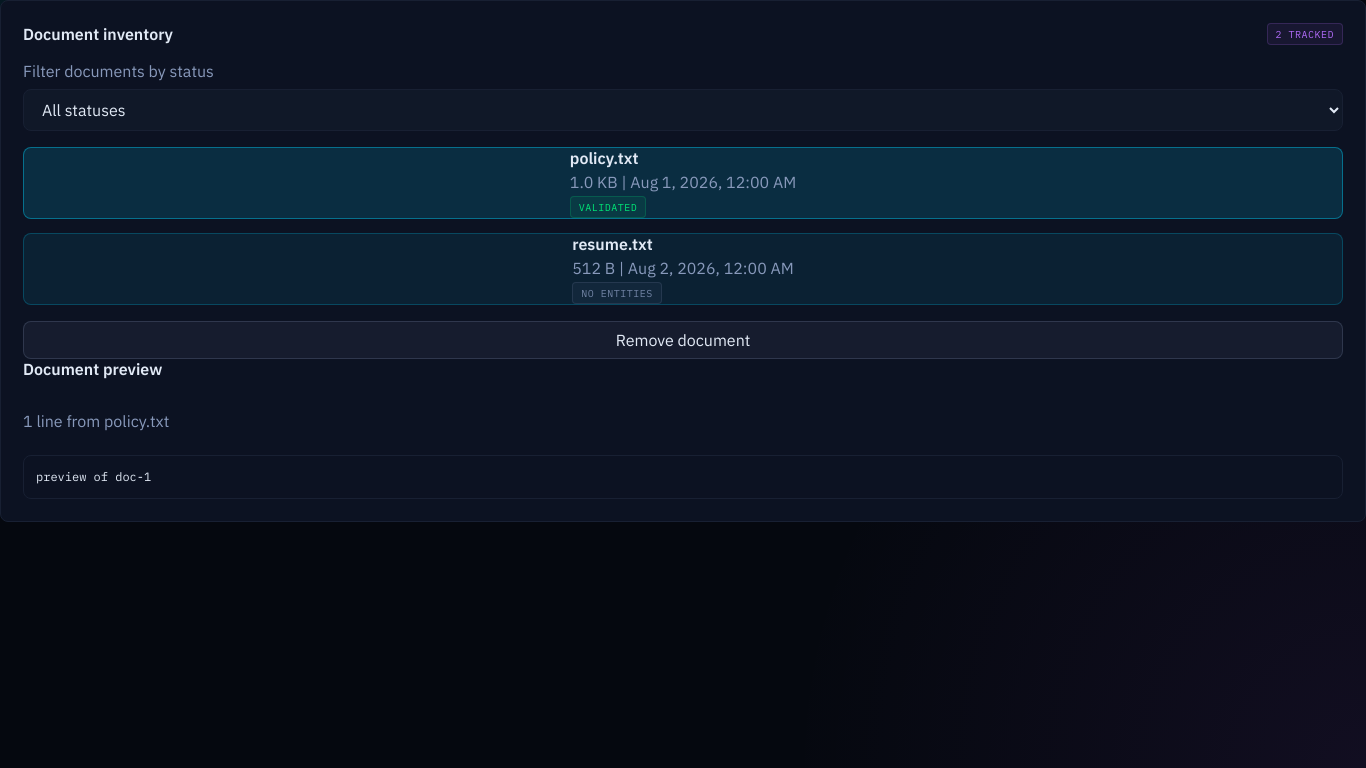
it: DataSection › confirms before removing a document
This screenshot has width=1366, height=768.
Expected: the text "policy.txt" is shown, 570,148 -> 638,168
Click the button "Remove document". click: {"x": 683, "y": 340}
box: 23,321 -> 1343,359
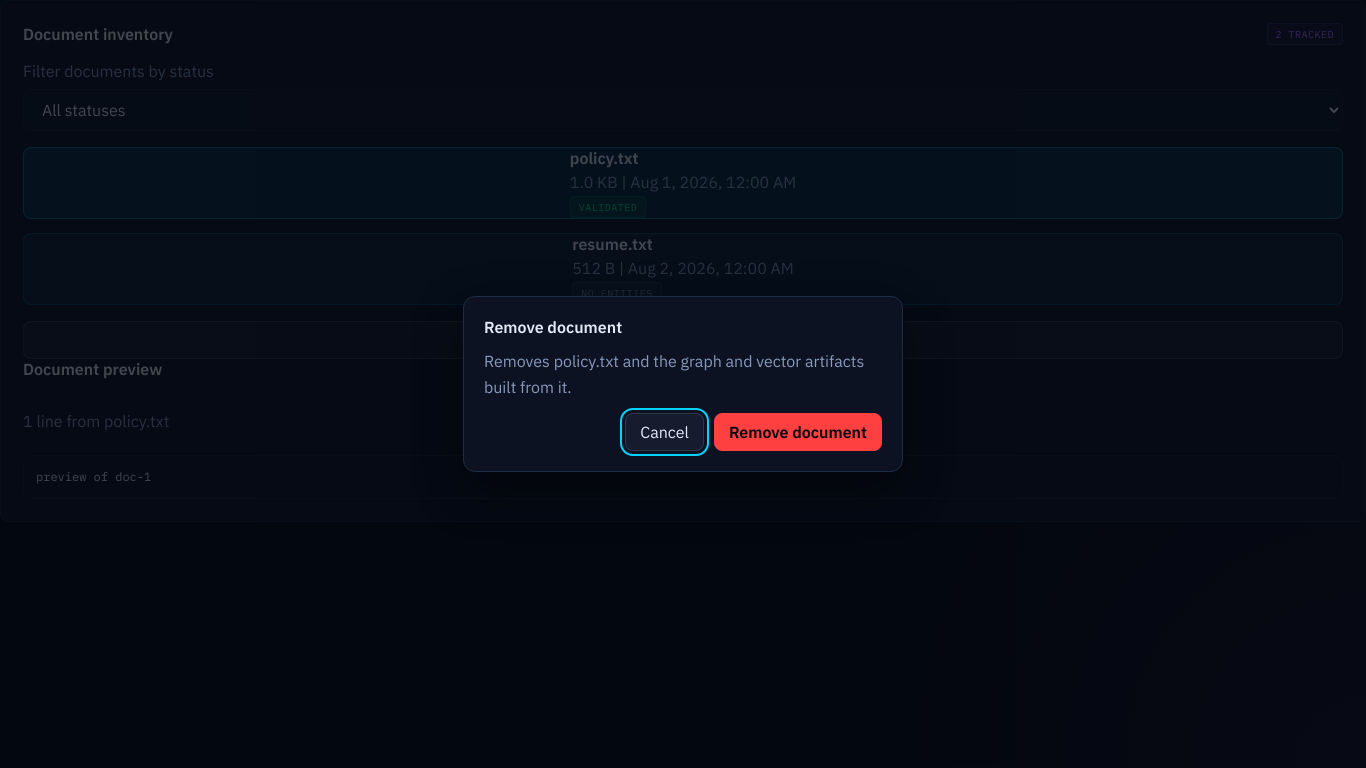
Expected: the dialog shows "policy.txt", 484,351 -> 864,397
